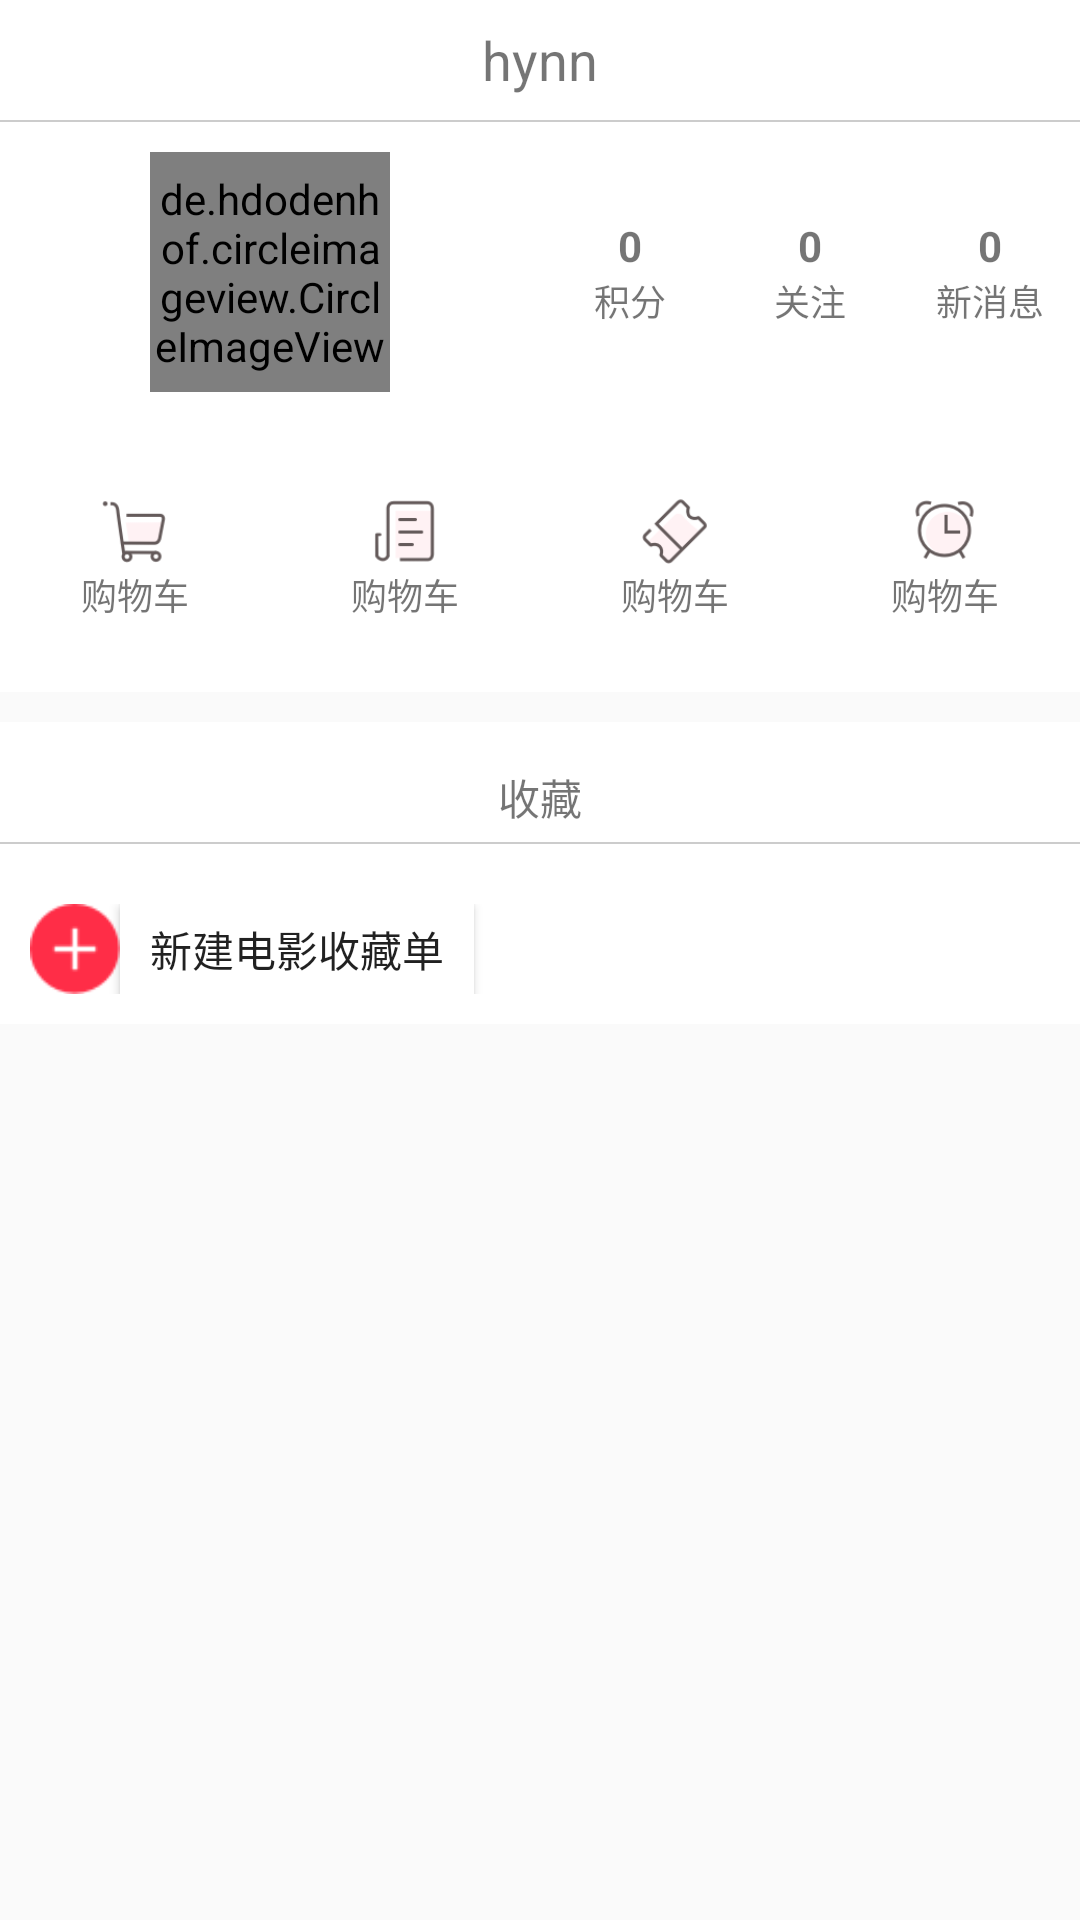

Screen size 1080 x 1920. Icon name, then its center in pixels as [x,y]:
coupon: [674,531]
order: [405,531]
plus enable: [75,949]
remind: [944,529]
